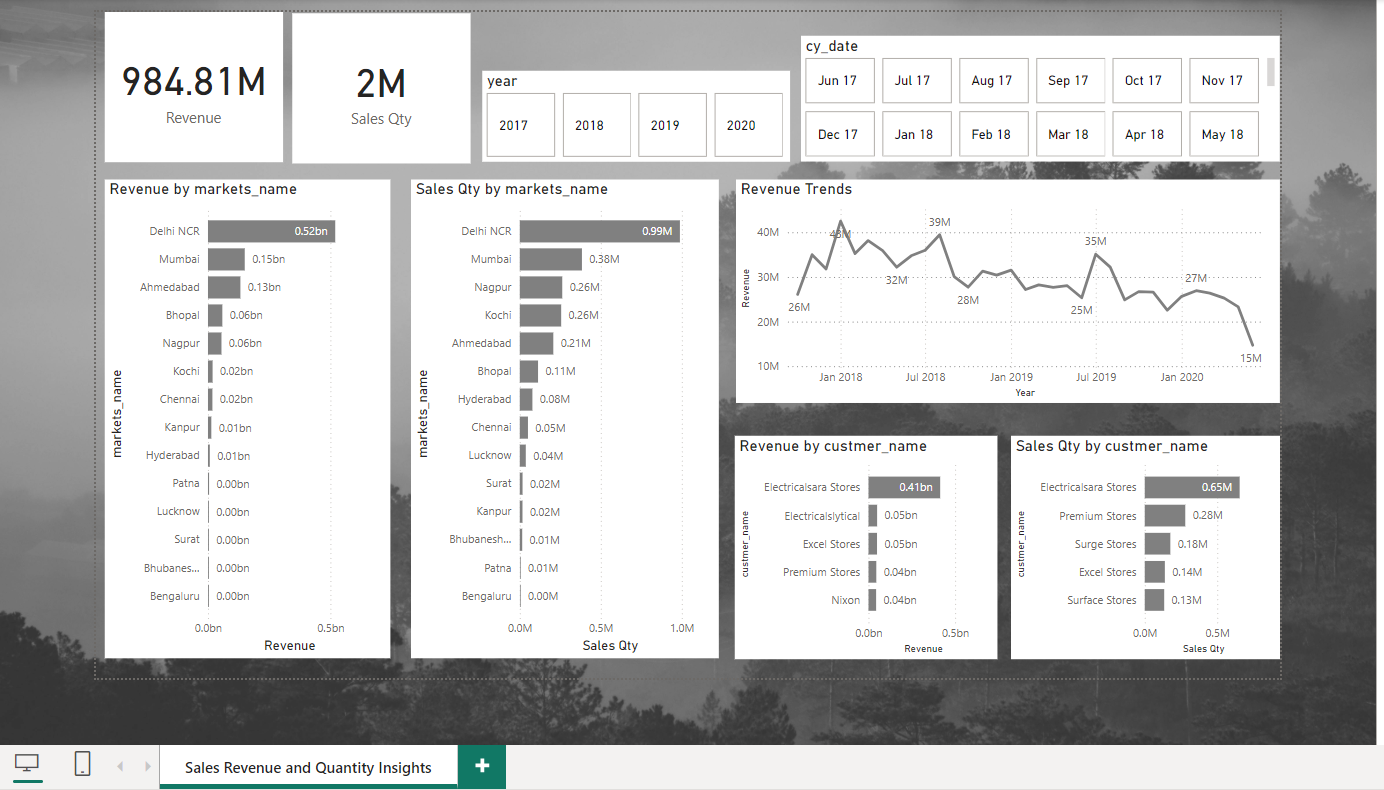

The page's visual inventory and layout, read from the dashboard file:
{"tool":"powerbi","page":{"name":"Sales Revenue and Quantity Insights","canvas":[1280,720],"ordinal":0},"visuals":[{"type":"card","fields":{"Values":["BaseMeasure.Revenue"]},"box":[10,0,192.5,162.5],"z":0},{"type":"barChart","fields":{"Category":["sales markets.markets_name"],"Y":["BaseMeasure.Revenue"]},"box":[10,181.2,308.8,517.5],"z":1000},{"type":"barChart","fields":{"Category":["sales markets.markets_name"],"Y":["BaseMeasure.Sales Qty"]},"box":[340,181.2,332.5,517.5],"z":2000},{"type":"card","fields":{"Values":["BaseMeasure.Sales Qty"]},"box":[212.5,1.2,192.5,162.5],"z":3000},{"type":"advancedSlicerVisual","fields":{"Values":["sales date.year"]},"box":[417.5,63.8,332.5,98.8],"z":4000},{"type":"advancedSlicerVisual","fields":{"Values":["sales date.cy_date"]},"box":[762.5,26.2,517.5,136.2],"z":5000},{"type":"barChart","fields":{"Category":["sales customers.custmer_name"],"Y":["BaseMeasure.Sales Qty"]},"box":[988.8,457.5,291.2,241.2],"z":6000},{"type":"barChart","fields":{"Category":["sales customers.custmer_name"],"Y":["BaseMeasure.Revenue"]},"box":[690,457.5,283.8,241.2],"z":7000},{"type":"lineChart","title":"Revenue Trends","fields":{"Y":["BaseMeasure.Revenue"],"Category":["sales date.cy_date.Variation.Date Hierarchy.Year","sales date.cy_date.Variation.Date Hierarchy.Quarter","sales date.cy_date.Variation.Date Hierarchy.Month","sales date.cy_date.Variation.Date Hierarchy.Day"]},"box":[691.9,181.1,587.8,241.9],"z":8000}]}

Visuals, with their boxes on the page's 1280x720 design canvas (x1, y1, x2, y2). These are canvas units, not pixel positions in the 1384x790 screenshot, which may show the page scaled, cropped or inside an application window:
card - BaseMeasure.Revenue: box=[10, 0, 202, 162]
barChart - sales markets.markets_name x BaseMeasure.Revenue: box=[10, 181, 319, 699]
barChart - sales markets.markets_name x BaseMeasure.Sales Qty: box=[340, 181, 672, 699]
card - BaseMeasure.Sales Qty: box=[212, 1, 405, 164]
advancedSlicerVisual - sales date.year: box=[418, 64, 750, 163]
advancedSlicerVisual - sales date.cy_date: box=[762, 26, 1280, 162]
barChart - sales customers.custmer_name x BaseMeasure.Sales Qty: box=[989, 458, 1280, 699]
barChart - sales customers.custmer_name x BaseMeasure.Revenue: box=[690, 458, 974, 699]
"Revenue Trends" lineChart: box=[692, 181, 1280, 423]
